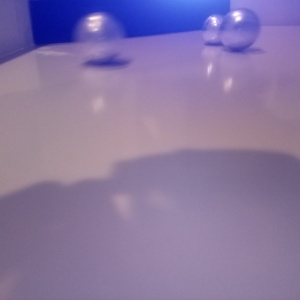dead_ball: (119, 47, 186, 117)
